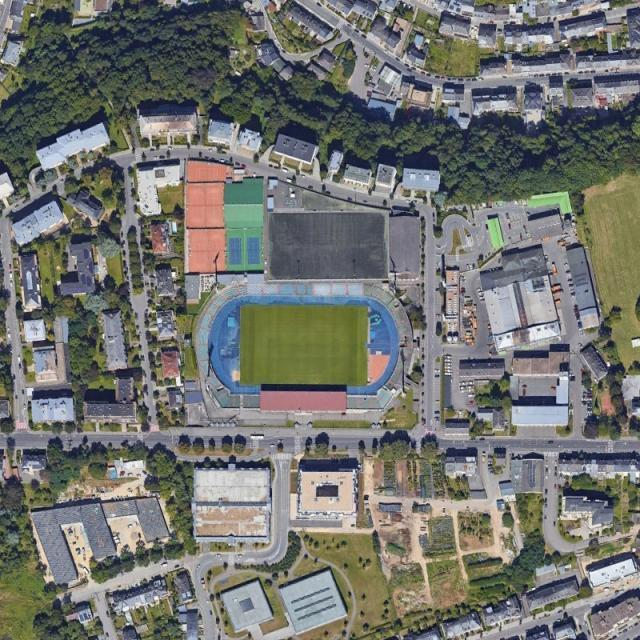vehicle: (250, 435, 264, 439)
